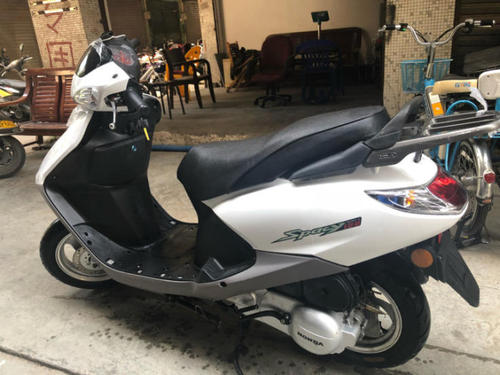motor: (38, 43, 472, 361)
